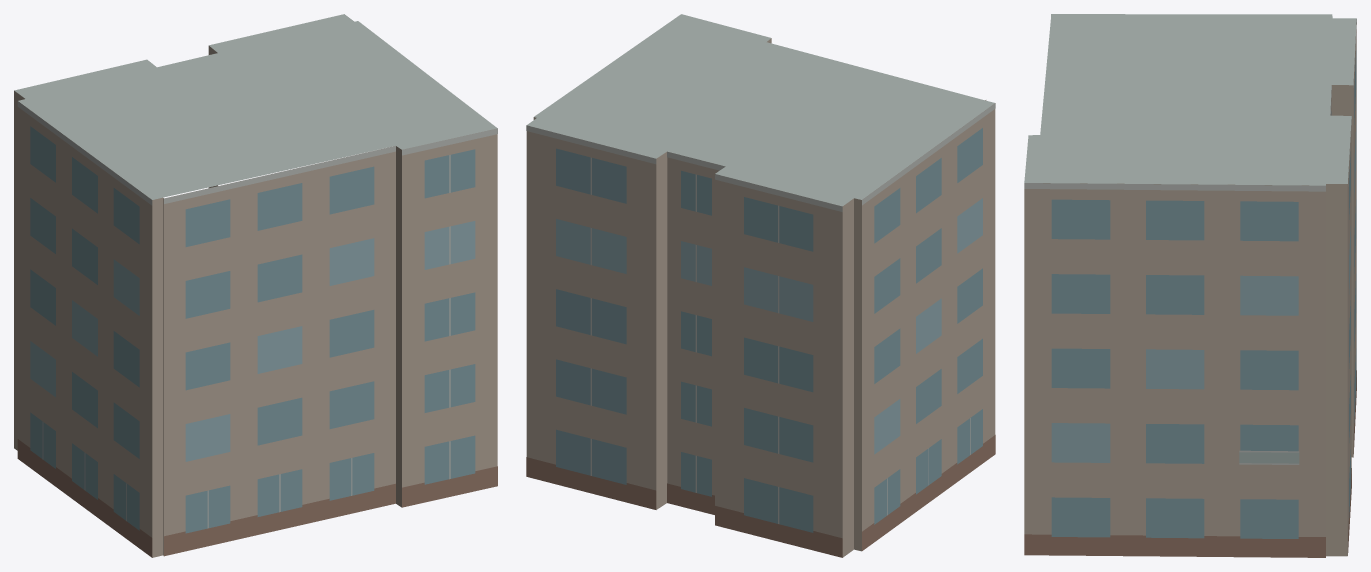
File: survey-upis-32939073.glb
3 renders of one model, left to right at view 1: azimuth 30°, elevation 25°; view 2: azimuth 150°, elevation 25°; view 3: azimuth 270°, elevation 25°, orthographic. The views are drawn at different scales.
Parts seen in each view (by area): view 1: survey-upis-32939073.tmp; view 2: survey-upis-32939073.tmp; view 3: survey-upis-32939073.tmp.
Part boxes in pixels (left/top/right/bottom): survey-upis-32939073.tmp: left=14, top=14, right=497, bottom=557; survey-upis-32939073.tmp: left=526, top=14, right=995, bottom=557; survey-upis-32939073.tmp: left=1024, top=14, right=1356, bottom=557.
Bounding box in the file's own units: 14.9 × 15.05 × 12.19.
